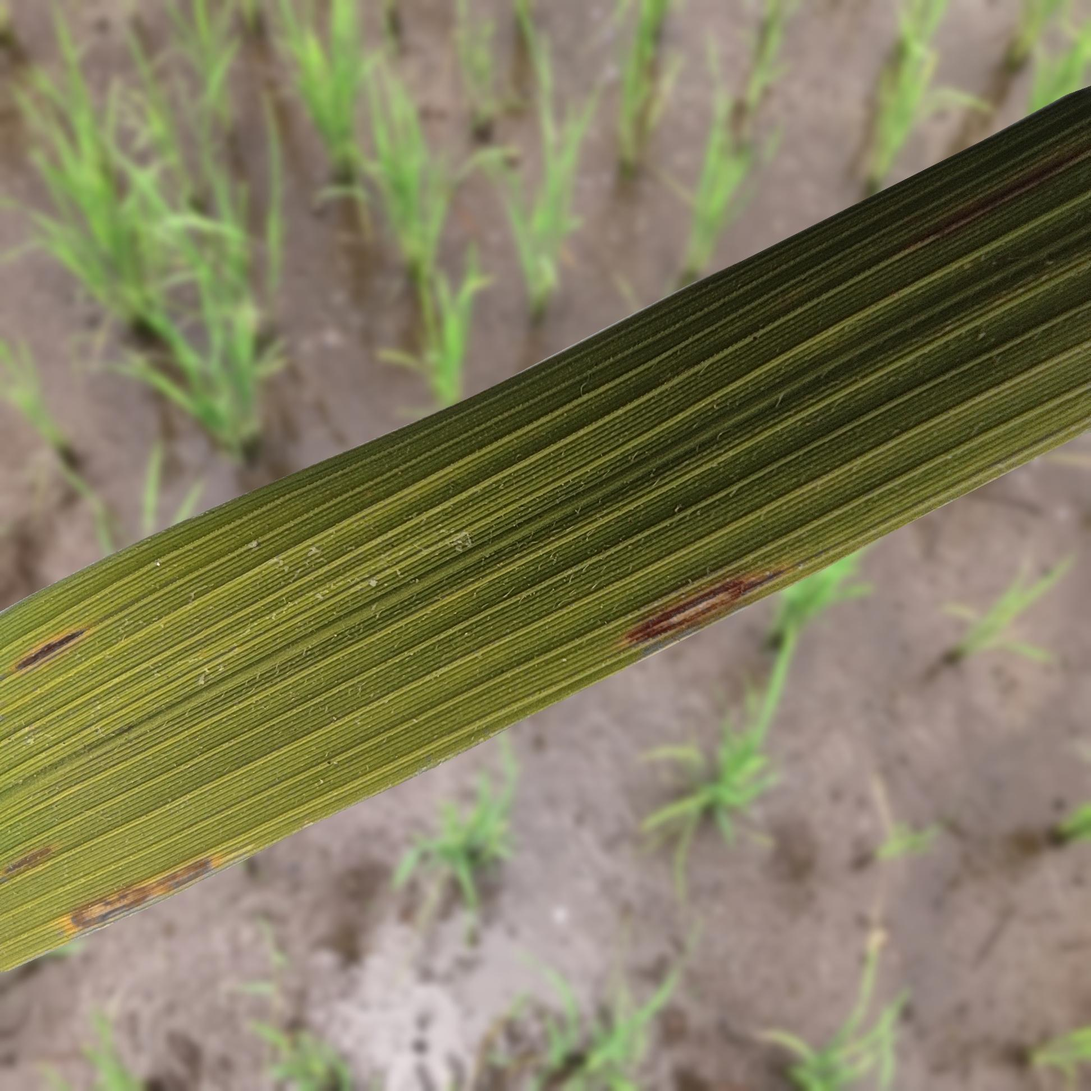LEAF BLAST: (626, 572, 783, 643), (71, 857, 213, 929)
